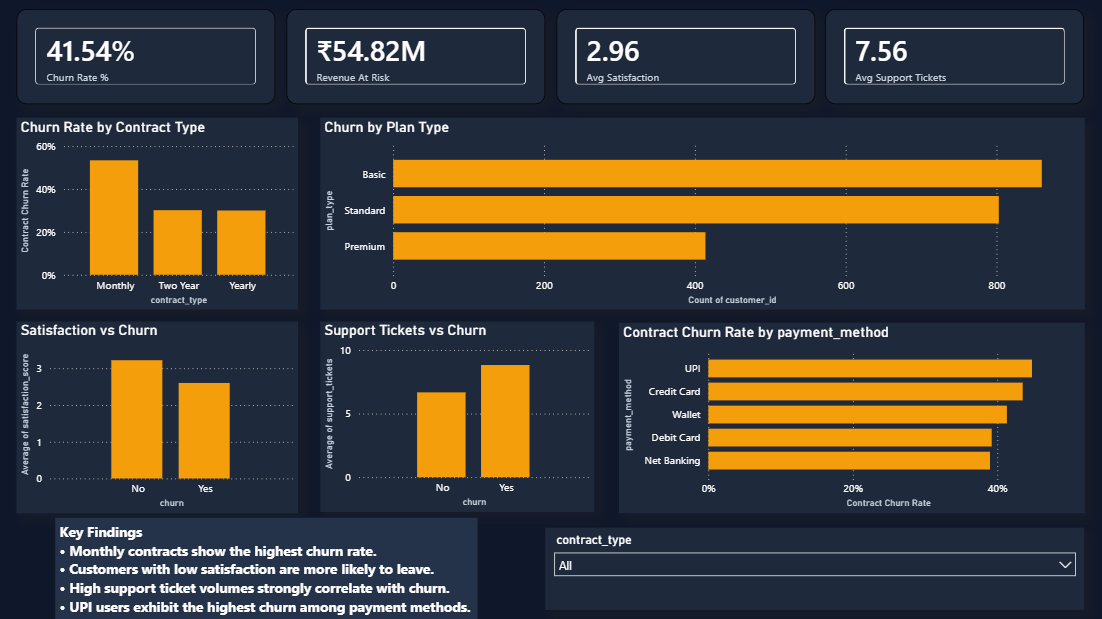

Layout of this report page (visuals, bound fields, positions):
{"tool":"powerbi","page":{"name":"Churn Intelligence","canvas":[1280,720],"ordinal":1},"visuals":[{"type":"cardVisual","fields":{"Data":["Measures .Churn Rate %"]},"box":[20,12.1,300,110.3],"z":0},{"type":"cardVisual","fields":{"Data":["Measures .Revenue At Risk"]},"box":[333.2,12.1,300,110.3],"z":1000},{"type":"cardVisual","fields":{"Data":["Measures .Avg Satisfaction"]},"box":[646.5,12.1,300,110.3],"z":2000},{"type":"cardVisual","fields":{"Data":["Measures .Avg Support Tickets"]},"box":[958.2,12.1,300,110.3],"z":3000},{"type":"clusteredColumnChart","title":"Churn Rate by Contract Type","fields":{"Category":["customers.contract_type"],"Y":["Measures .Contract Churn Rate"]},"box":[20.6,138.2,326.5,222.1],"z":4000},{"type":"clusteredBarChart","title":"Churn by Plan Type","fields":{"Category":["customers.plan_type"],"Y":["CountNonNull(customers.customer_id)"]},"box":[372.1,138.2,886.8,222.1],"z":5000},{"type":"clusteredColumnChart","title":"Satisfaction vs Churn","fields":{"Category":["customers.churn"],"Y":["Avg(customers.satisfaction_score)"]},"box":[21,373.7,326,222],"z":6000},{"type":"clusteredColumnChart","title":"Support Tickets vs Churn","fields":{"Category":["customers.churn"],"Y":["Avg(customers.support_tickets)"]},"box":[372.1,374.4,317.6,220.6],"z":7000},{"type":"barChart","fields":{"Category":["customers.payment_method"],"Y":["Measures .Contract Churn Rate"]},"box":[719.1,375.9,539.7,220.6],"z":8000},{"type":"slicer","fields":{"Values":["customers.contract_type"]},"box":[633.8,613.2,625,95.6],"z":9000},{"type":"textbox","box":[64.7,601.5,489.7,119.1],"z":10000}]}

Visuals, with their boxes in screenshot pixels (x1, y1, x2, y2), scaled from the page's 1280x720 canvas onto the 1102x619 screenshot:
cardVisual - Measures .Churn Rate %: (17, 10, 276, 105)
cardVisual - Measures .Revenue At Risk: (287, 10, 545, 105)
cardVisual - Measures .Avg Satisfaction: (557, 10, 815, 105)
cardVisual - Measures .Avg Support Tickets: (825, 10, 1083, 105)
"Churn Rate by Contract Type" clusteredColumnChart: (18, 119, 299, 310)
"Churn by Plan Type" clusteredBarChart: (320, 119, 1084, 310)
"Satisfaction vs Churn" clusteredColumnChart: (18, 321, 299, 512)
"Support Tickets vs Churn" clusteredColumnChart: (320, 322, 594, 512)
barChart - customers.payment_method x Measures .Contract Churn Rate: (619, 323, 1084, 513)
slicer - customers.contract_type: (546, 527, 1084, 609)
textbox: (56, 517, 477, 618)
